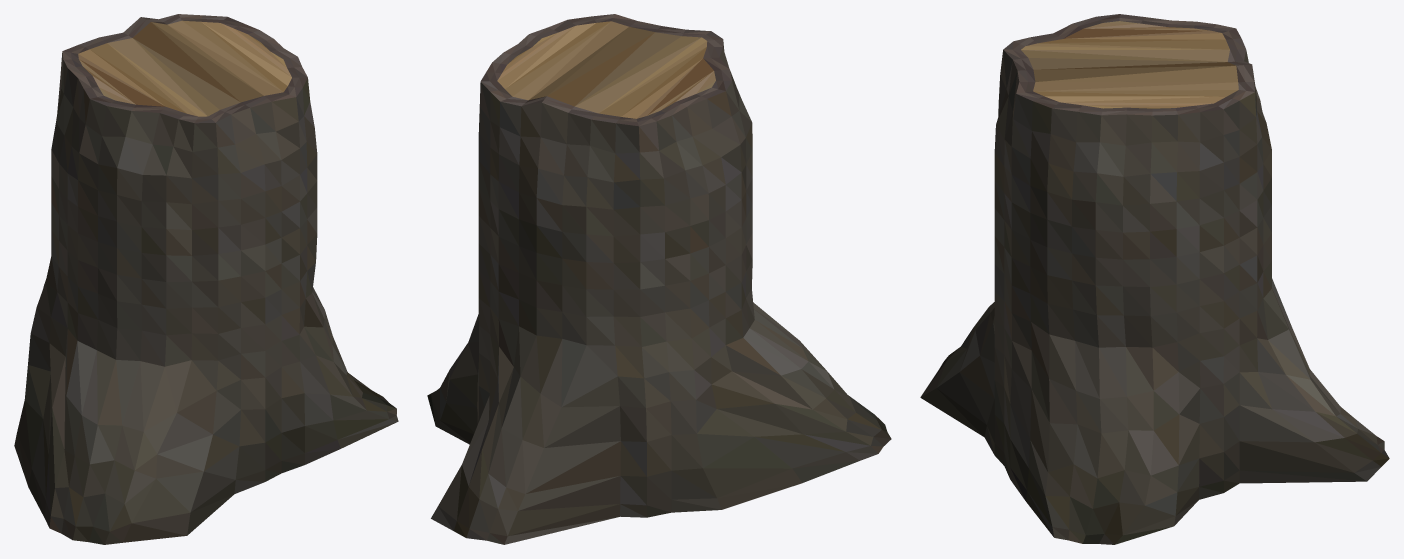
Rendered from r32_stumpf_2.glb.
3 renders of one model, left to right at view 1: azimuth 30°, elevation 25°; view 2: azimuth 150°, elevation 25°; view 3: azimuth 270°, elevation 25°, orthographic. The views are drawn at different scales.
Parts seen in each view (by area): view 1: stumpf; view 2: stumpf; view 3: stumpf.
Part boxes in pixels (left/top/right/bottom): stumpf: left=14, top=14, right=398, bottom=544; stumpf: left=427, top=14, right=891, bottom=544; stumpf: left=920, top=14, right=1389, bottom=544.
Size of the model in its own units: 1.08 by 1 by 1.09.
